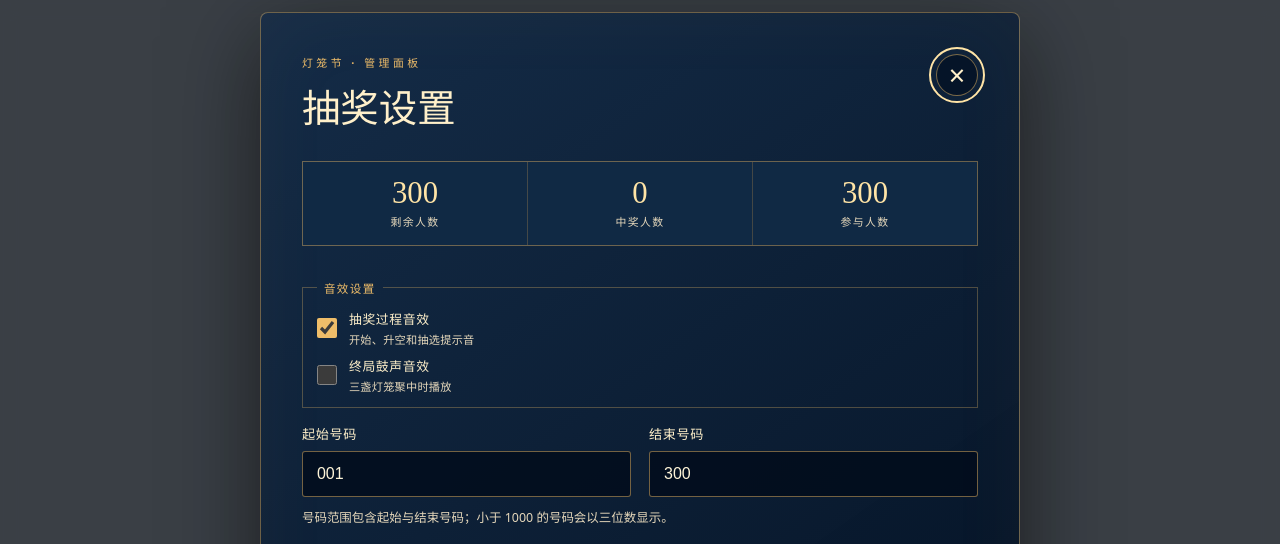
Test: OperatorPanel › shows an inline range-cap error and does not submit an oversized range
Replace the text in the field labelled "起始号码" with "1" at (466, 474), box [302,451,631,497]
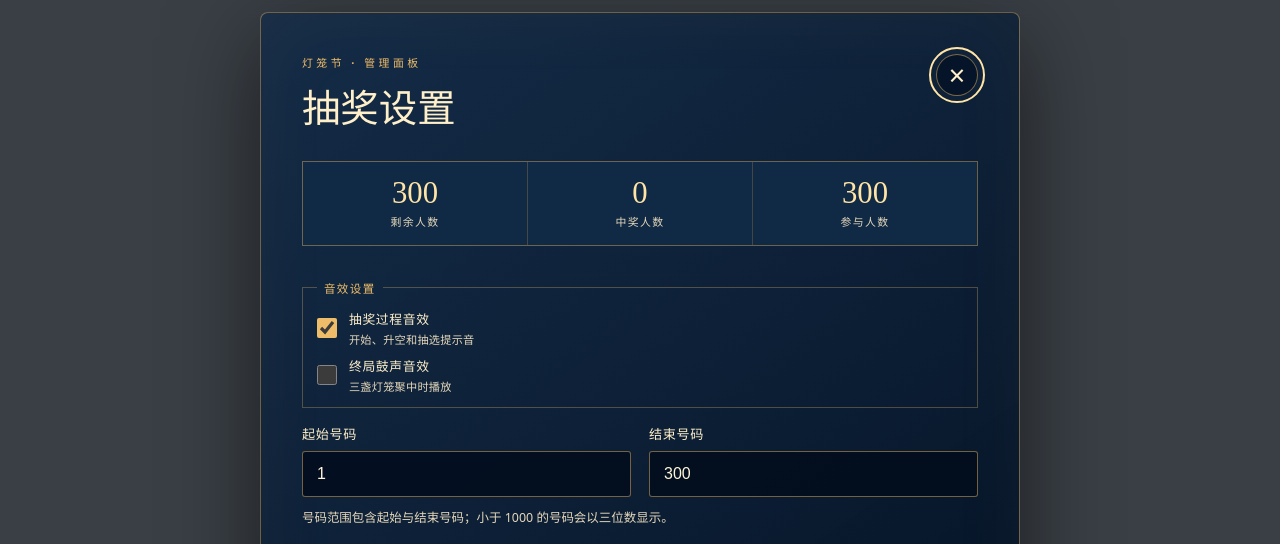
Replace the text in the field labelled "结束号码" with "10001" at (814, 474), box [649,451,978,497]
(page scrolled)
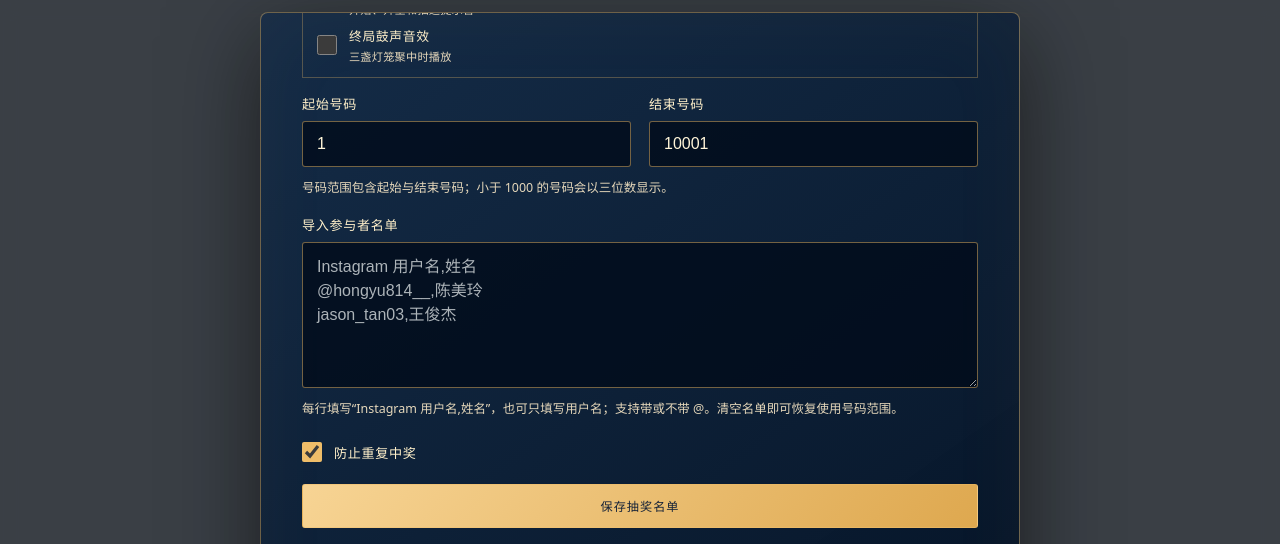
Click the button "保存抽奖名单" at (640, 506), box [302,484,978,528]
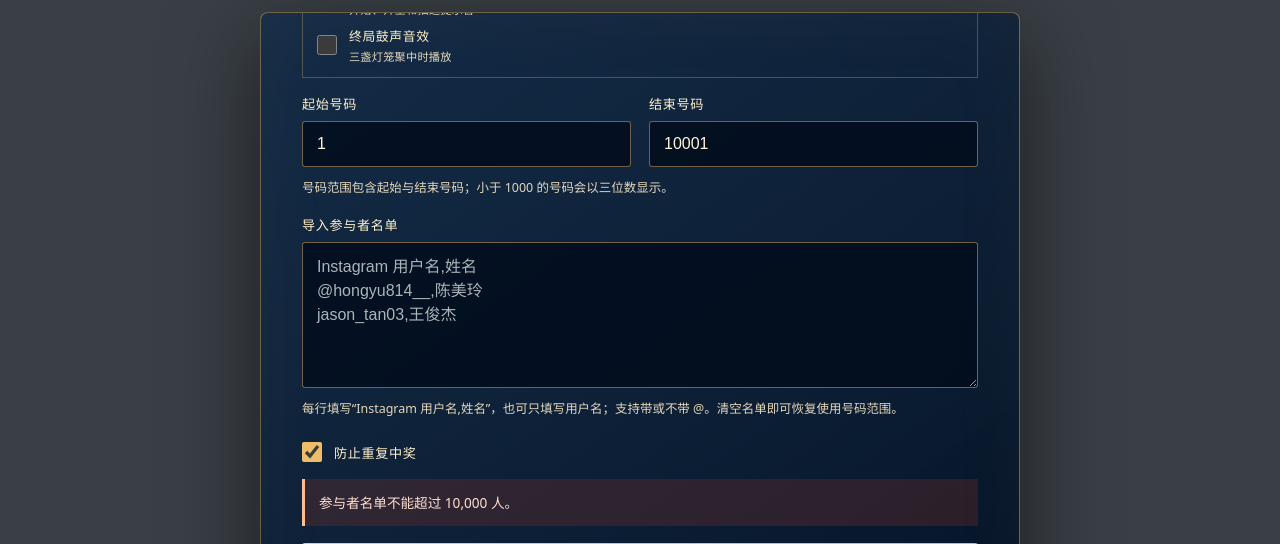
Check: the message reads "参与者名单不能超过 10,000 人。", box [319,493,518,512]
